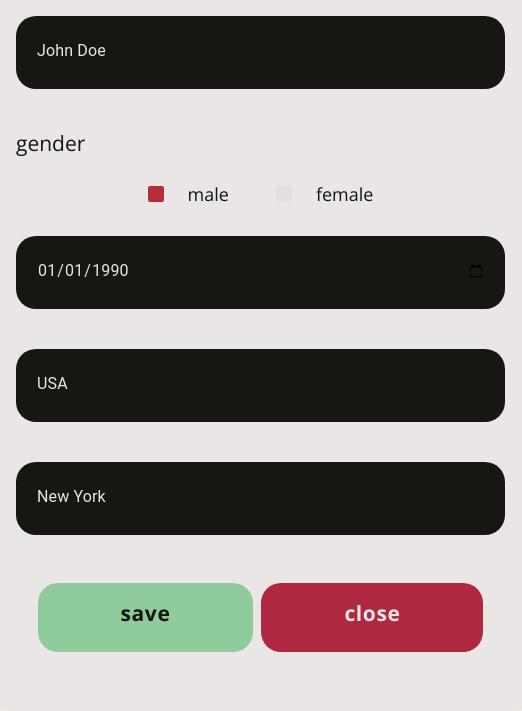
Scenario: UpdateProfileForm › should show error message from API on failed update
(page scrolled)
Click the button "save". click: (145, 617)
box: top-left (38, 583), bottom-right (253, 652)
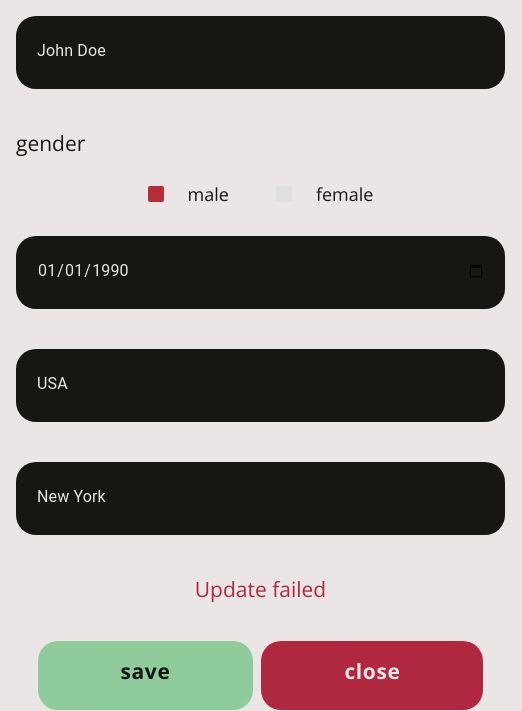
Expected: the heading "Update failed" is shown, top-left (195, 575), bottom-right (326, 603)
